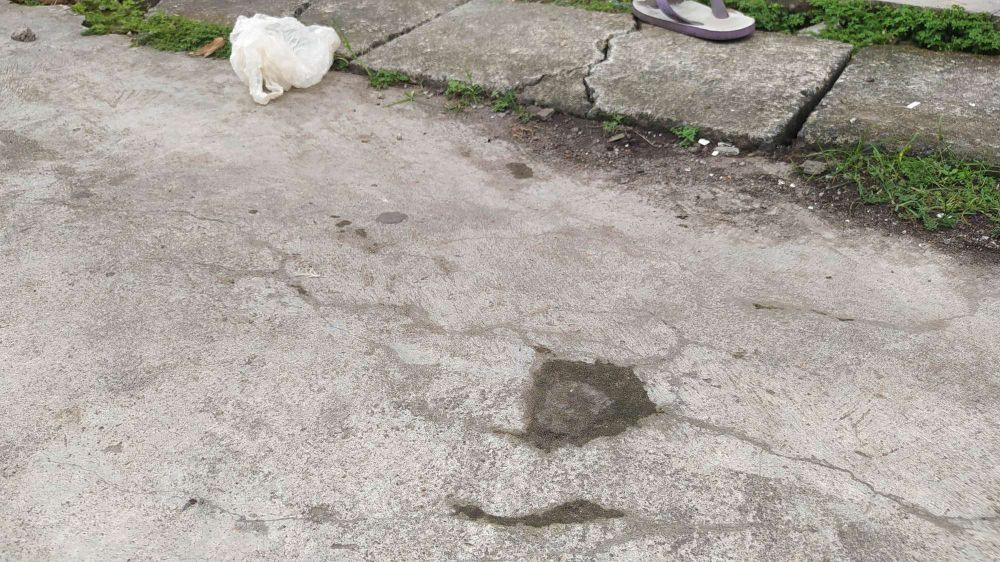plastik: (209, 9, 347, 111)
